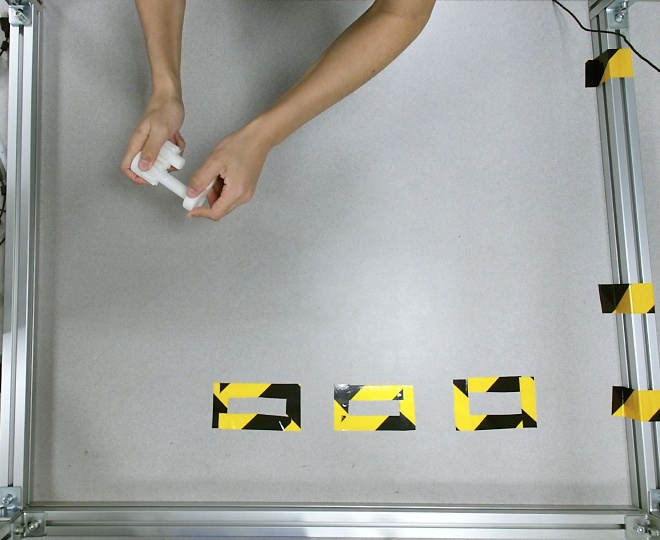stage_3: (129, 136, 218, 211)
